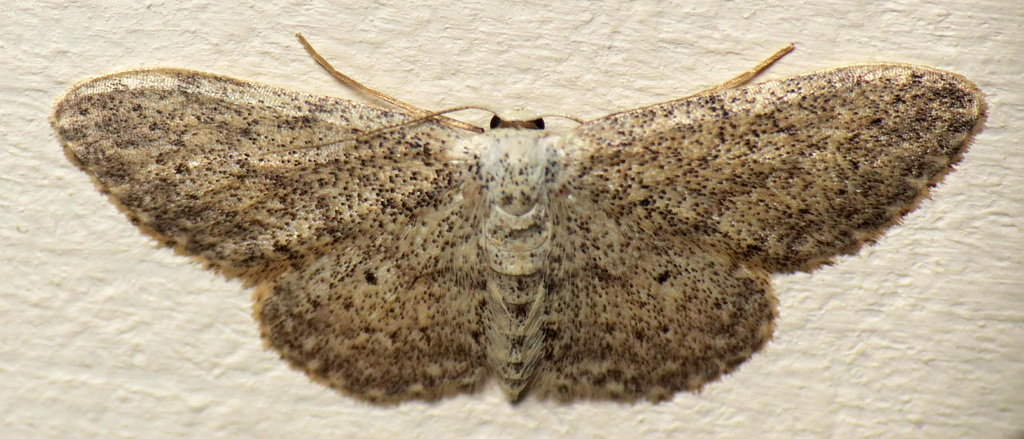Butterfly: (35, 12, 1003, 425)
